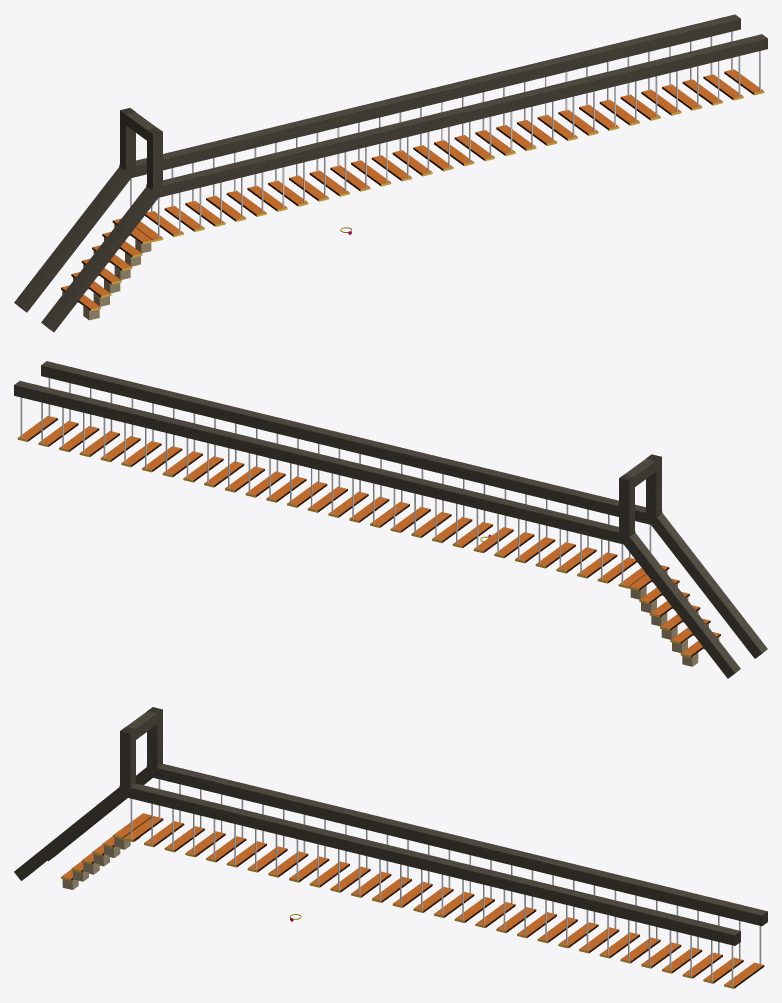
The model's file is FixHouse1.fbx.
3 views of the same model, one above another, from view 1: azimuth 30°, elevation 25°; view 2: azimuth 150°, elevation 25°; view 3: azimuth 330°, elevation 25° (orthographic).
Visible parts, largest first — view 1: Wood2Dark_M.111; view 2: Wood2Dark_M.111; view 3: Wood2Dark_M.111.
Part boxes in pixels (<box>): Wood2Dark_M.111: <box>14,14,767,332</box>; Wood2Dark_M.111: <box>14,361,767,678</box>; Wood2Dark_M.111: <box>14,707,767,988</box>.
Bounding box in the file's own units: 13918 × 3212 × 1539.
5 materials, 2 textured.
